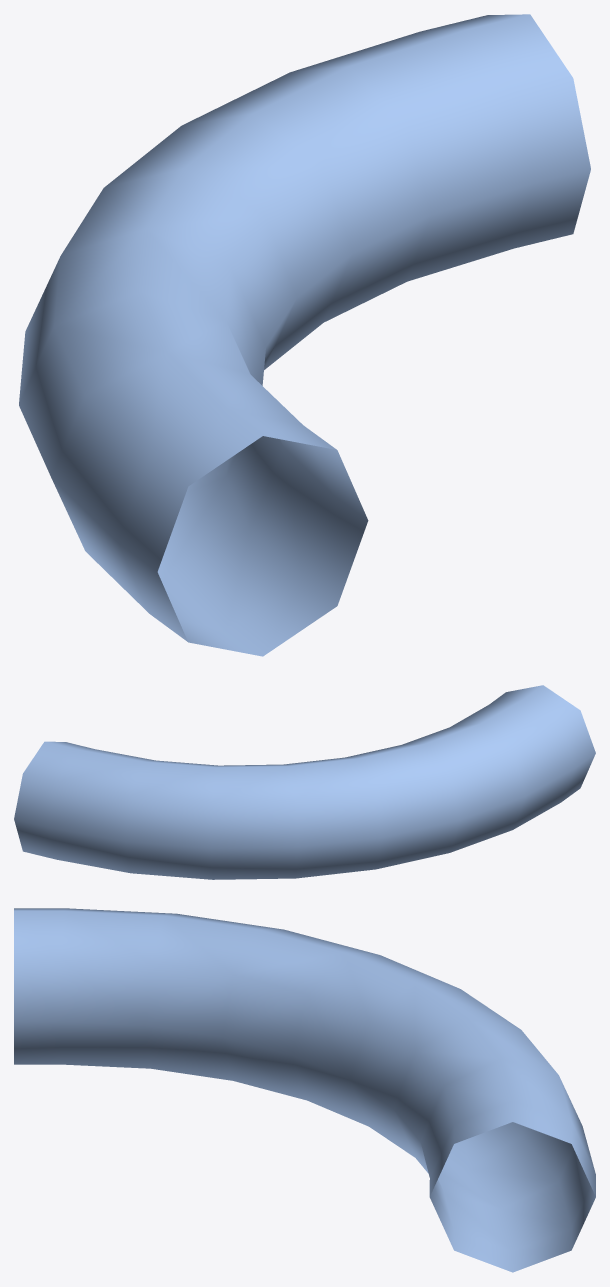
The model's file is PipeSmall_Bent_03.fbx.
The picture shows the model from 3 angles, top to bottom: view 1: azimuth 30°, elevation 25°; view 2: azimuth 150°, elevation 25°; view 3: azimuth 270°, elevation 25°; orthographic projection. The views are drawn at different scales.
Parts seen in each view (by area): view 1: PipeSmall_Bent_03.001; view 2: PipeSmall_Bent_03.001; view 3: PipeSmall_Bent_03.001.
Part boxes in pixels (x1=…): PipeSmall_Bent_03.001: x1=19, y1=14, x2=590, y2=656; PipeSmall_Bent_03.001: x1=14, y1=685, x2=595, y2=879; PipeSmall_Bent_03.001: x1=14, y1=908, x2=595, y2=1272.
Size of the model in its own units: 0.35 by 0.1 by 0.35.
